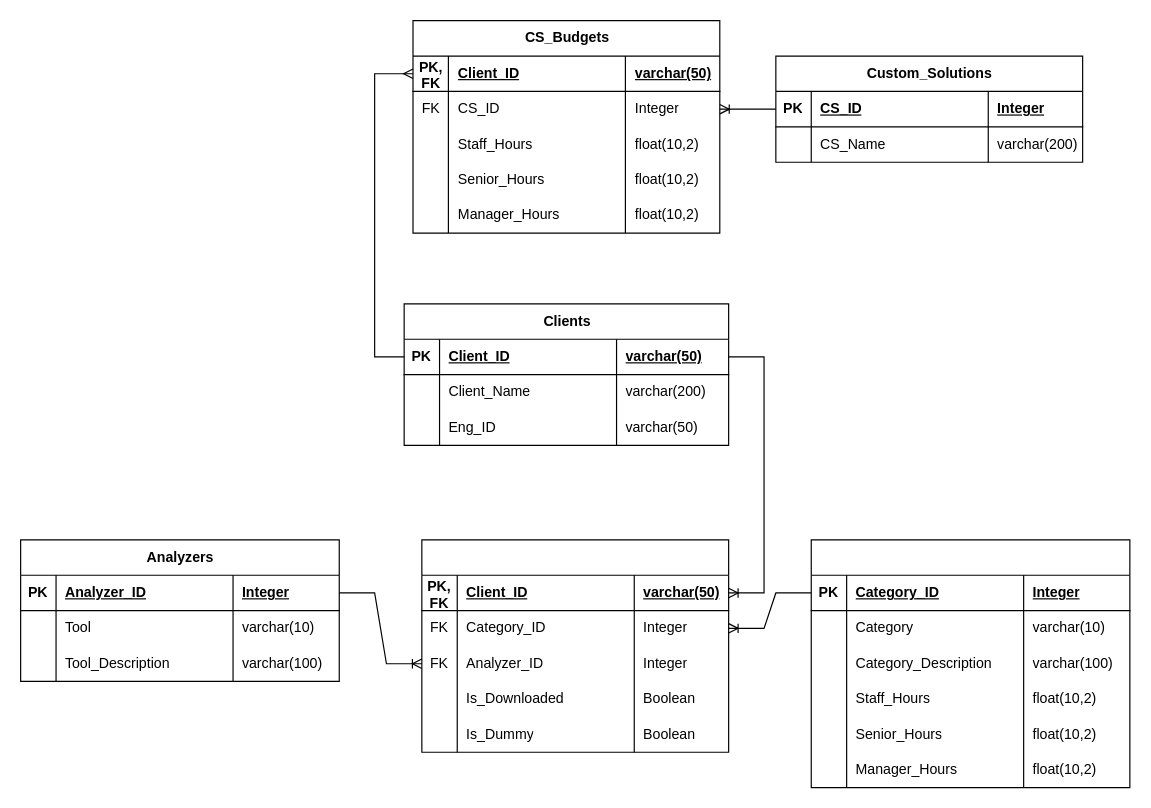
Image size: 1151x808. Some labels were removed from this diagram. The box of each missing label's shape, as (x1, y1, x2, y2) in pixels:
Budgets: (421, 539, 729, 752)
Categories: (810, 539, 1130, 788)
